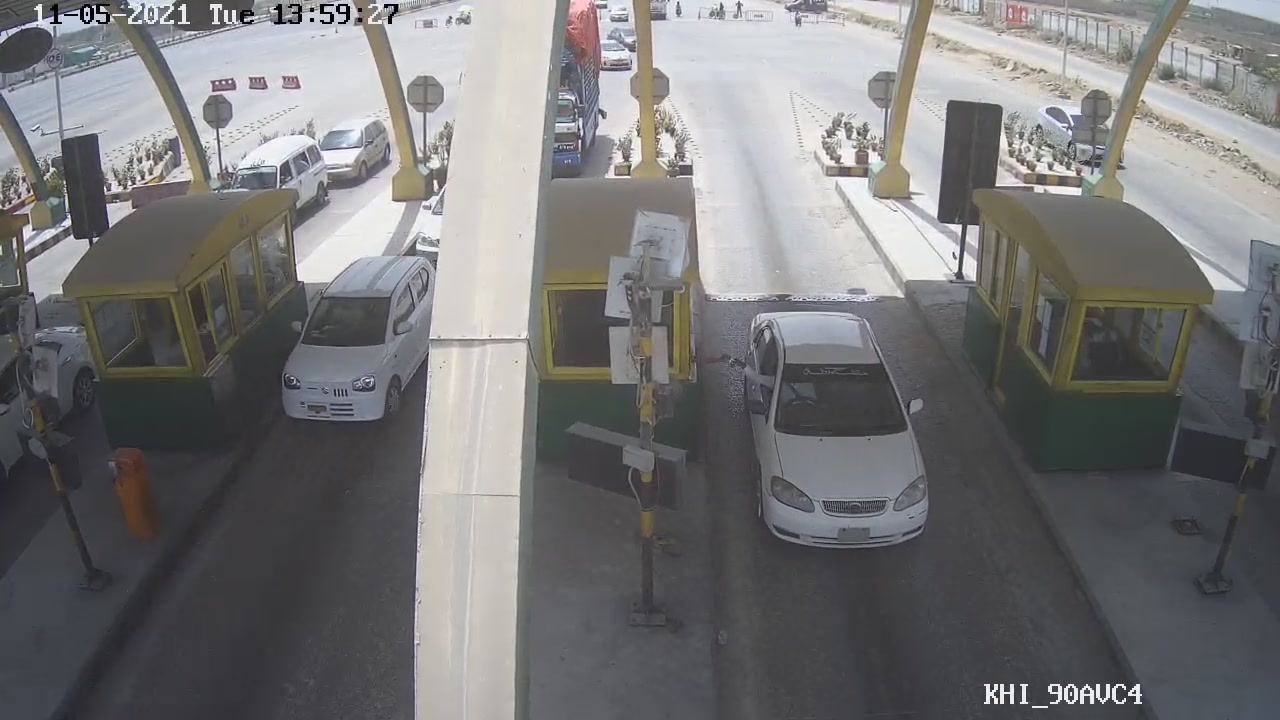F1: (736, 297, 932, 557)
